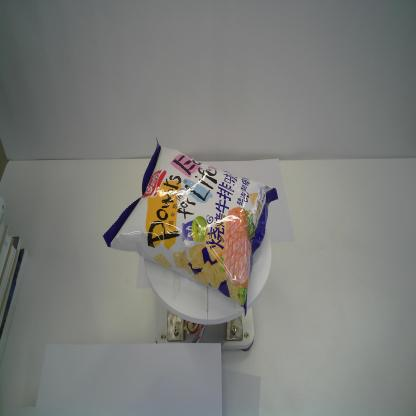Puffed Food: (102, 135, 278, 318)
